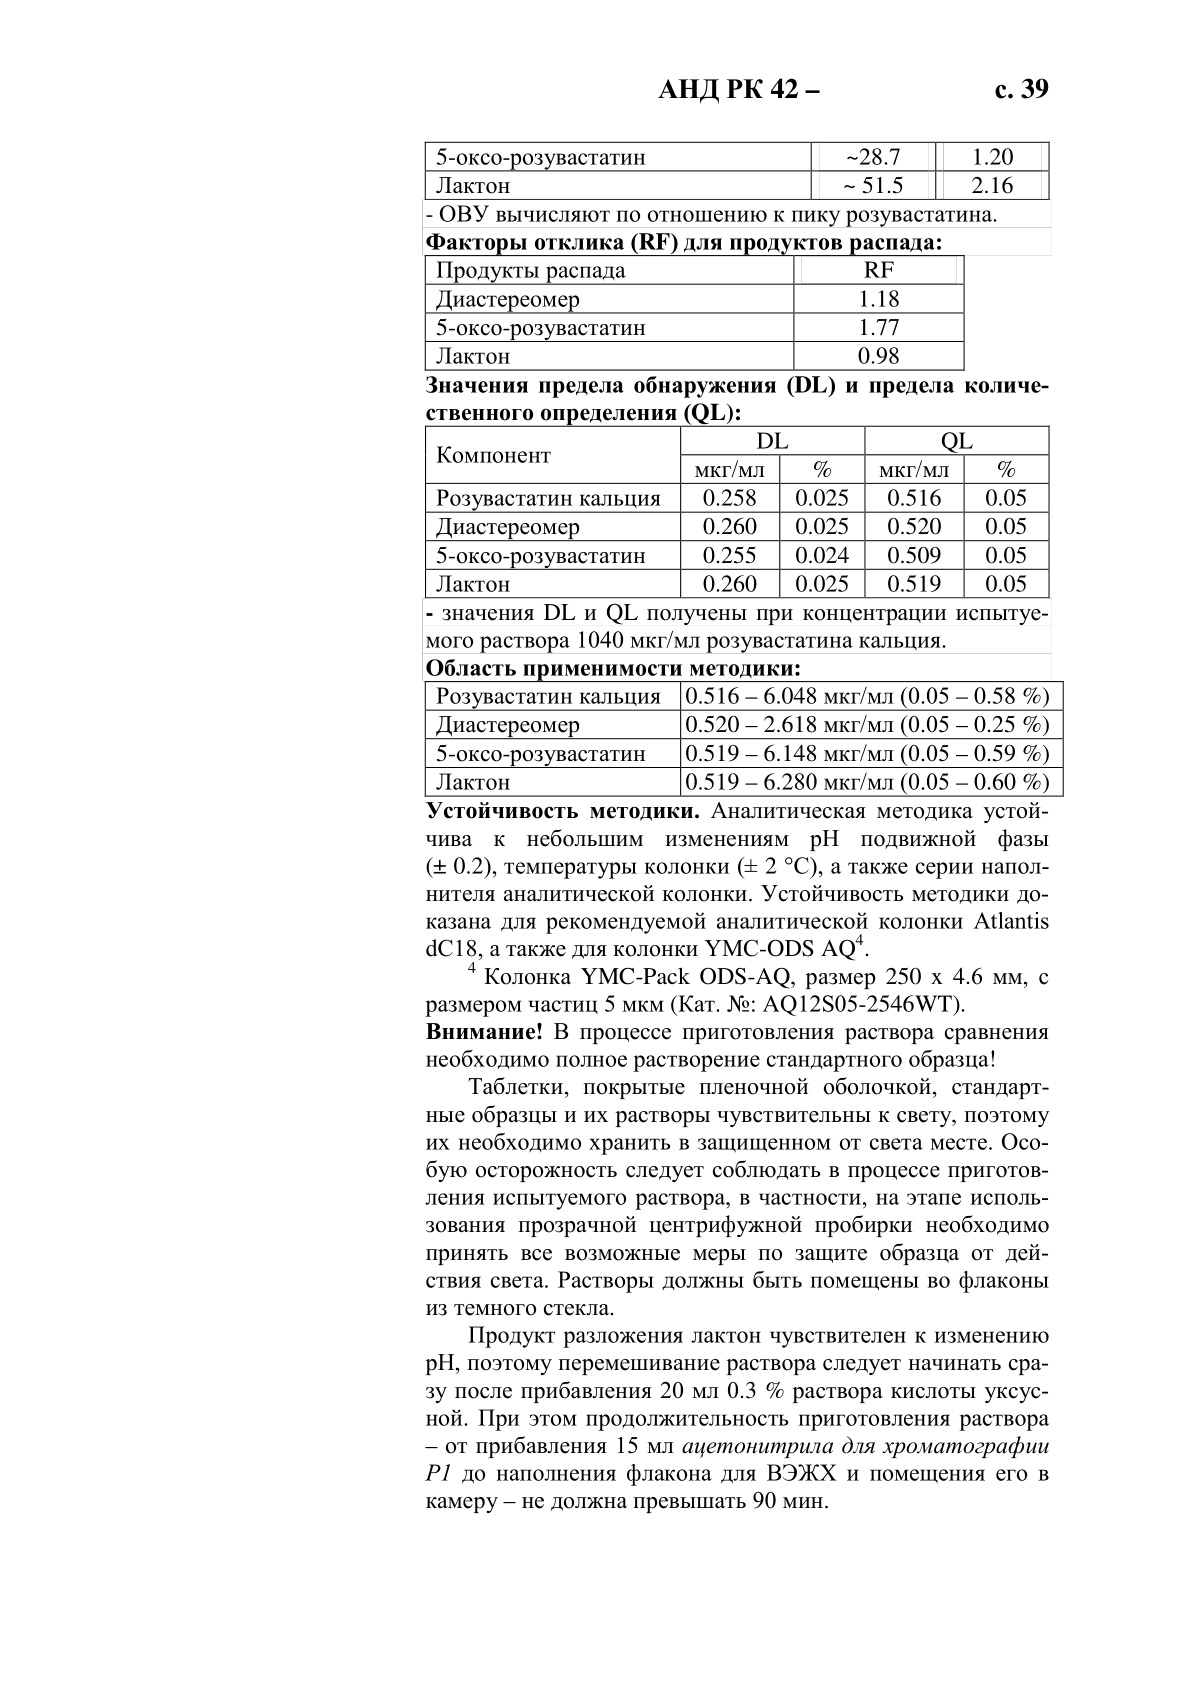full_lined: (424, 682, 1063, 798), (424, 255, 965, 371), (424, 140, 1051, 200)
merged_cells: (424, 425, 1051, 599)
